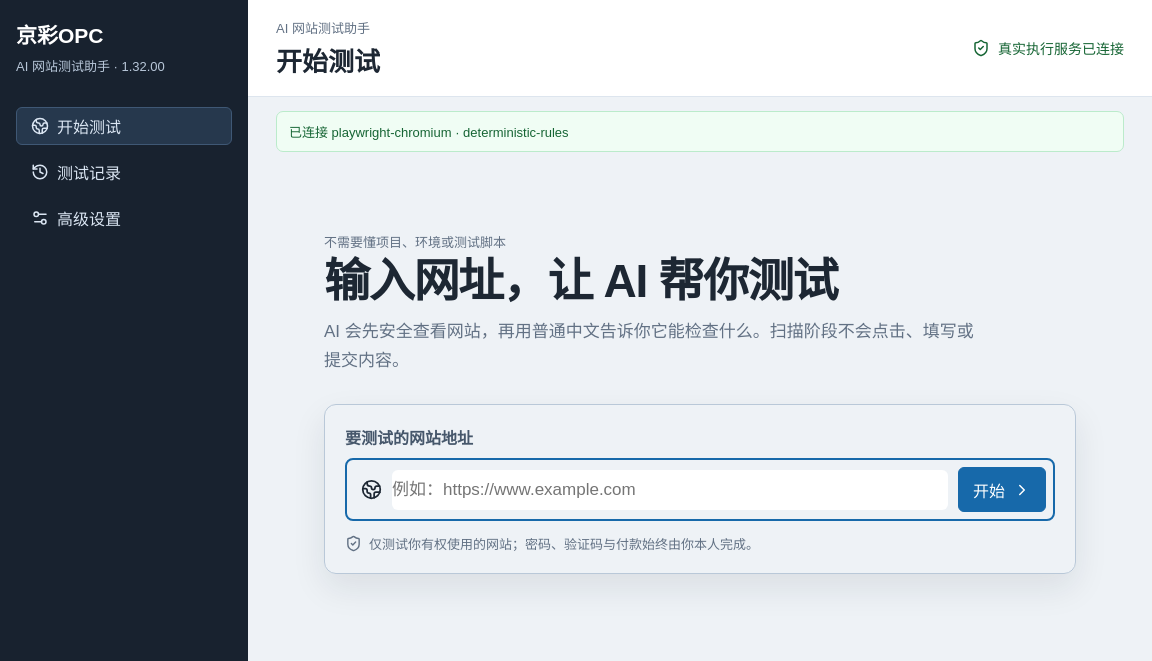
App › shows the simulation business baseline only inside advanced settings and keeps blocked truth
The width and height of the screenshot is (1152, 661).
Expected: the text "真实执行服务已连接" is shown, [998,38,1124,58]
Expected: the heading "仿真业务完整验收" is not shown
Click the button "高级设置" at (124, 218), box [16,199,232,237]
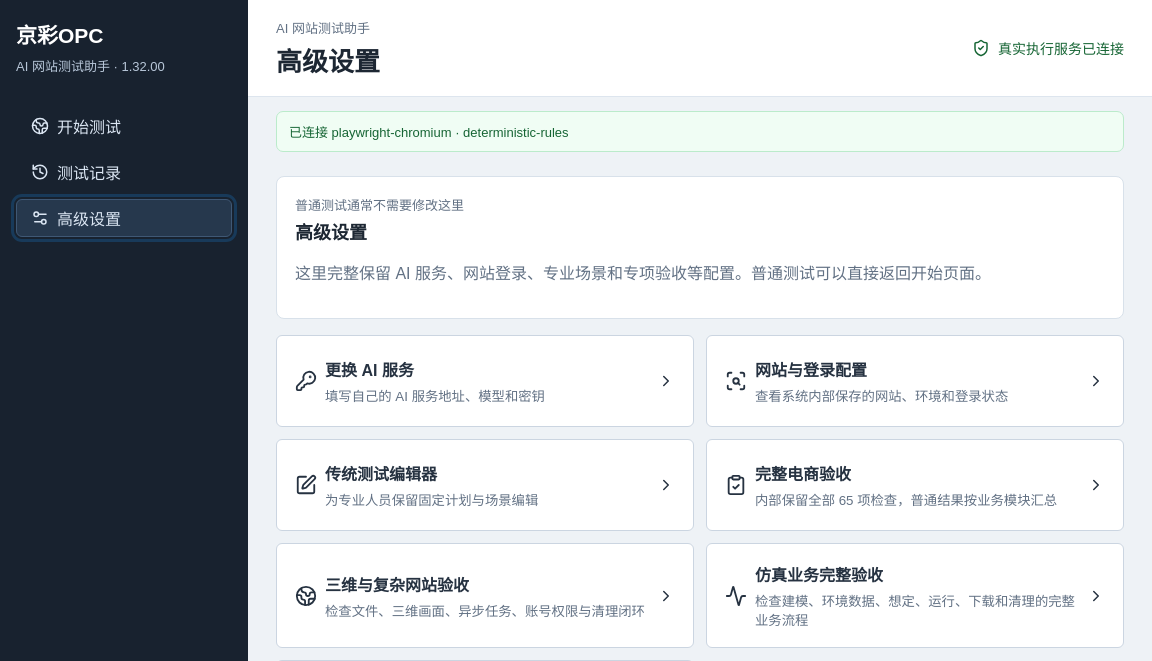
Click the button "仿真业务完整验收 检查建模、环境数据、想定、运行、下载和清理的完整业务流程" at (915, 596), box [706,543,1124,648]
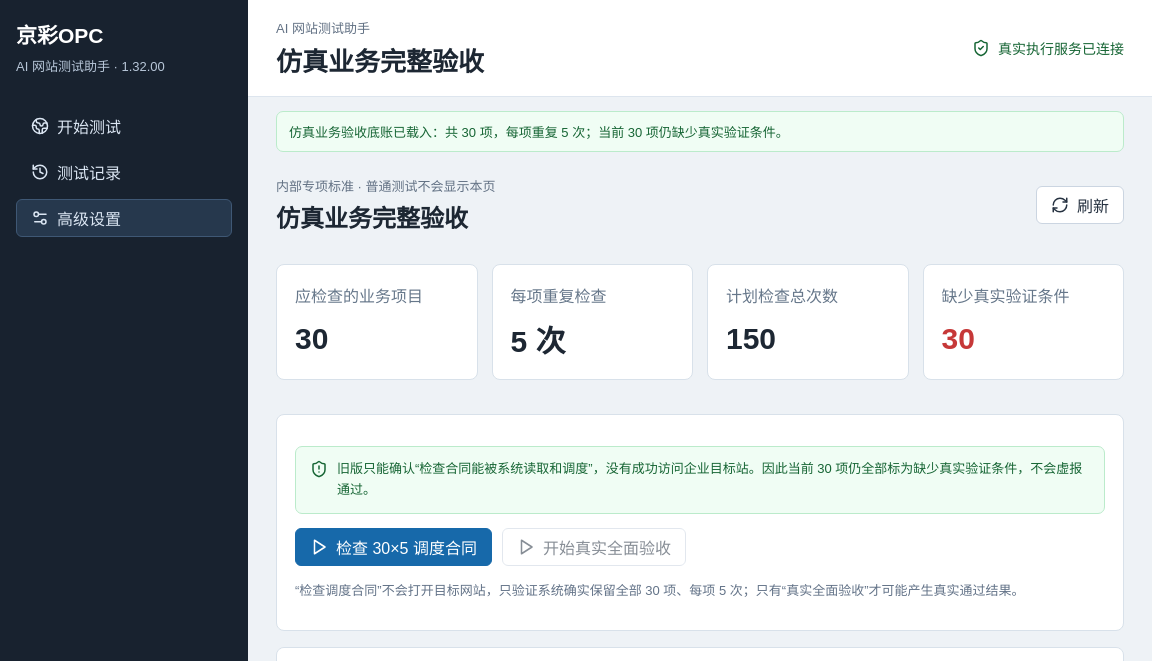
Expected: the text "没有成功访问企业目标站" is shown, [337,461,1082,497]
Expected: the button "检查 30×5 调度合同" is shown, [295,528,492,566]
